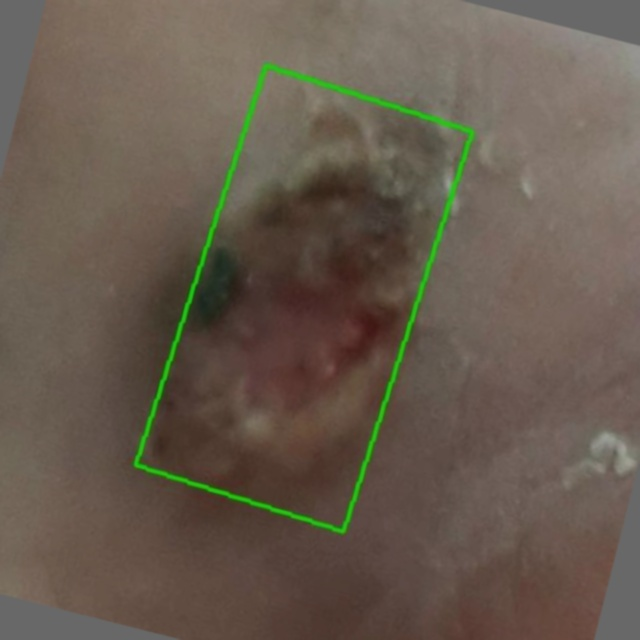Eczema: (136, 66, 473, 532)
